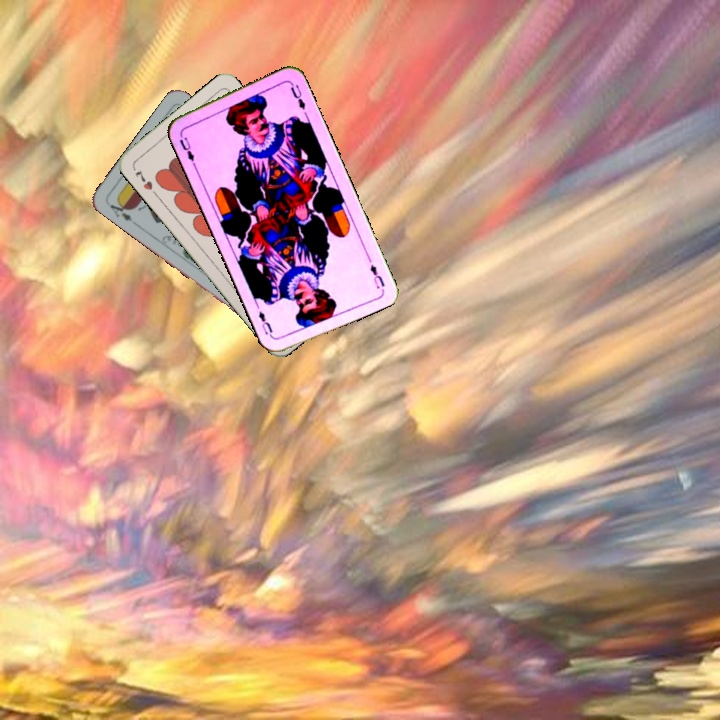EA: (104, 196, 135, 224)
EU: (176, 129, 198, 168), (366, 260, 387, 291)
H7: (131, 165, 155, 193)
